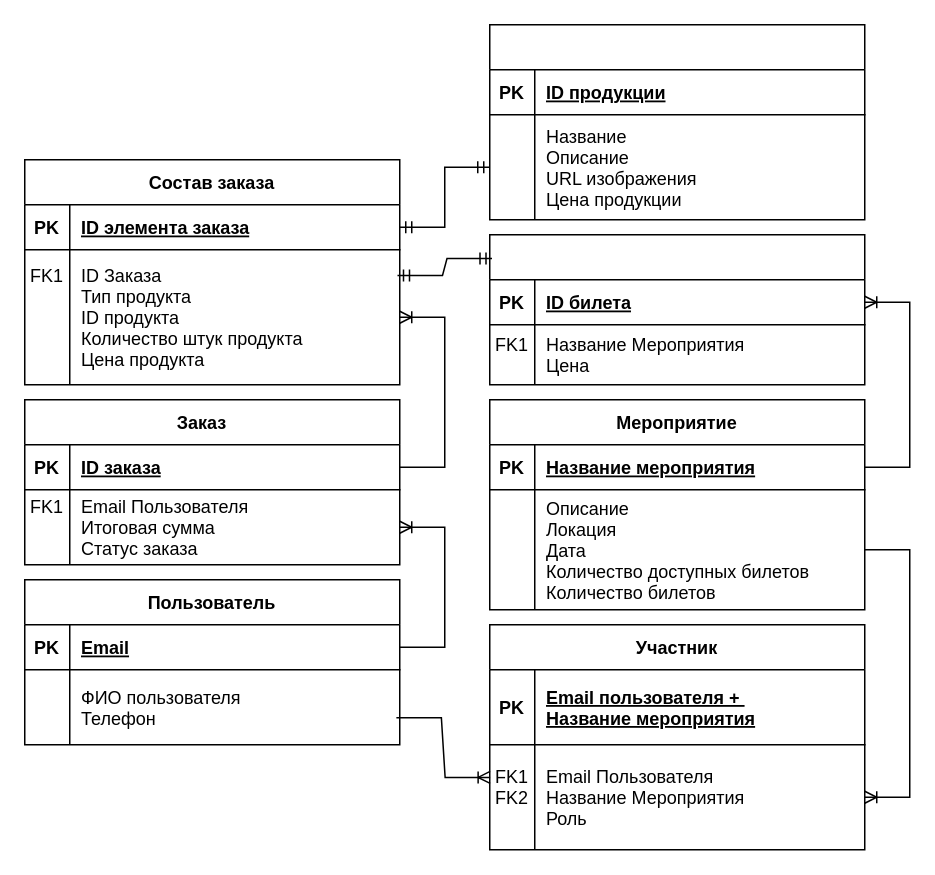
Some shapes in this 935 by 875 pixel diagram are drawn without their labels. The shapes that lost their labels are listed below. From the top down, each one's box as (x1, y1, x2, y2) in pixels, then its label:
(488, 23, 865, 220): Брендированная продукция
(488, 233, 865, 385): Билет на мероприятие
